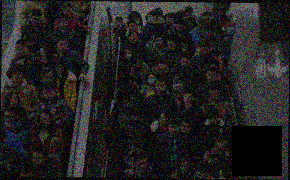with_mask: (147, 75, 157, 85), (123, 51, 132, 59), (147, 15, 155, 23), (134, 17, 141, 26)
without_mask: (136, 159, 149, 173), (3, 113, 16, 126), (31, 155, 45, 167), (38, 115, 50, 128), (42, 89, 55, 101), (12, 72, 24, 83), (120, 99, 132, 110), (155, 82, 166, 94), (216, 139, 228, 150), (225, 168, 237, 179), (8, 96, 19, 107), (15, 46, 26, 57), (57, 41, 68, 52), (57, 19, 68, 30), (168, 124, 179, 135), (182, 94, 193, 105), (158, 66, 169, 76), (181, 123, 191, 134), (179, 163, 189, 174), (206, 72, 217, 82), (210, 91, 220, 102), (55, 64, 65, 74), (128, 83, 138, 93), (154, 38, 164, 48), (180, 59, 190, 69), (130, 113, 141, 122), (158, 115, 167, 126), (207, 116, 218, 125), (32, 16, 41, 26), (63, 8, 73, 17), (166, 42, 176, 51), (198, 64, 208, 73), (43, 74, 54, 82), (132, 146, 143, 154), (200, 47, 211, 55), (128, 23, 137, 32), (129, 33, 138, 42), (165, 17, 174, 26), (128, 68, 136, 78), (151, 65, 159, 75), (25, 39, 34, 47), (174, 91, 183, 99), (175, 25, 184, 33), (204, 30, 214, 37), (181, 41, 189, 49), (204, 16, 212, 24), (135, 59, 141, 68), (188, 20, 194, 29), (216, 74, 222, 83), (223, 154, 230, 161), (113, 20, 119, 28), (150, 35, 156, 43), (196, 23, 204, 29), (185, 12, 192, 18), (131, 159, 136, 167), (210, 43, 214, 52), (218, 18, 224, 24)
